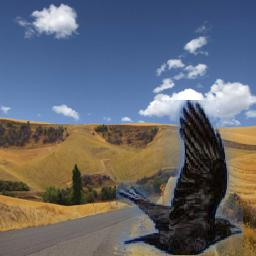Crow: (117, 101, 244, 256)
